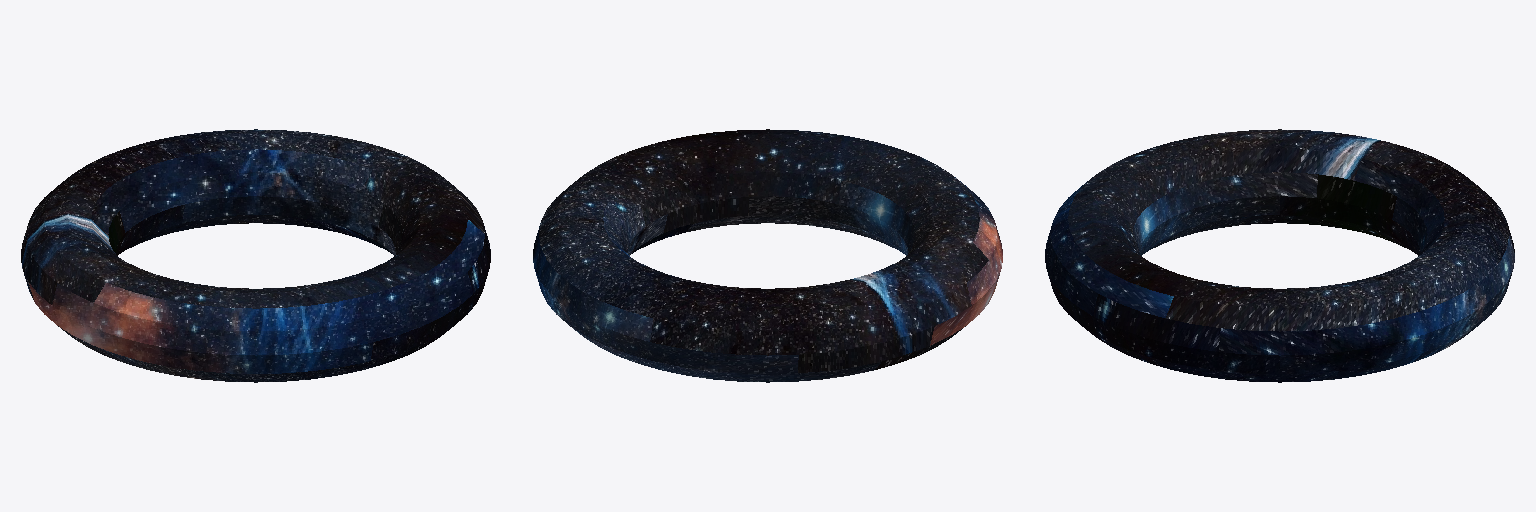
The picture shows the model from 3 angles: view 1: azimuth 30°, elevation 25°; view 2: azimuth 150°, elevation 25°; view 3: azimuth 270°, elevation 25°; orthographic projection.
Visible parts, largest first — view 1: Torus.001; view 2: Torus.001; view 3: Torus.001.
Part boxes in pixels (left/top/right/bottom): Torus.001: left=21, top=129, right=490, bottom=382; Torus.001: left=533, top=129, right=1002, bottom=382; Torus.001: left=1045, top=129, right=1514, bottom=382.
Size of the model in its own units: 2.5 by 0.5 by 2.5.
Materials: 1 (1 with a texture image).